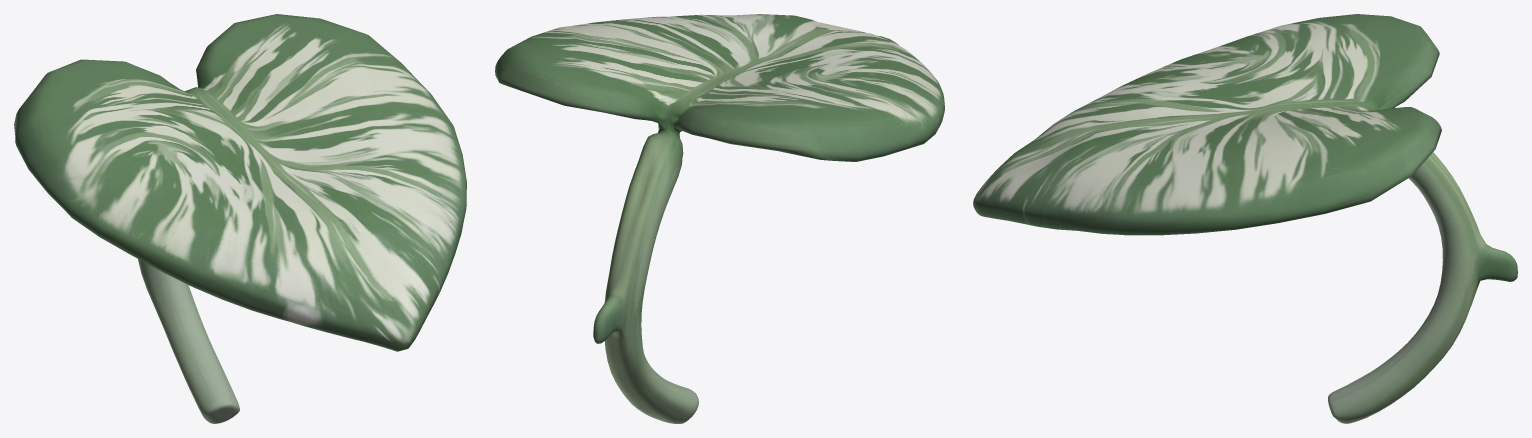
File: pothos_marble_whitegreen.glb
3 renders of one model, left to right at view 1: azimuth 30°, elevation 25°; view 2: azimuth 150°, elevation 25°; view 3: azimuth 270°, elevation 25°, orthographic. The views are drawn at different scales.
Size of the model in its own units: 1.54 by 1.37 by 2.
1 material, 1 textured.
